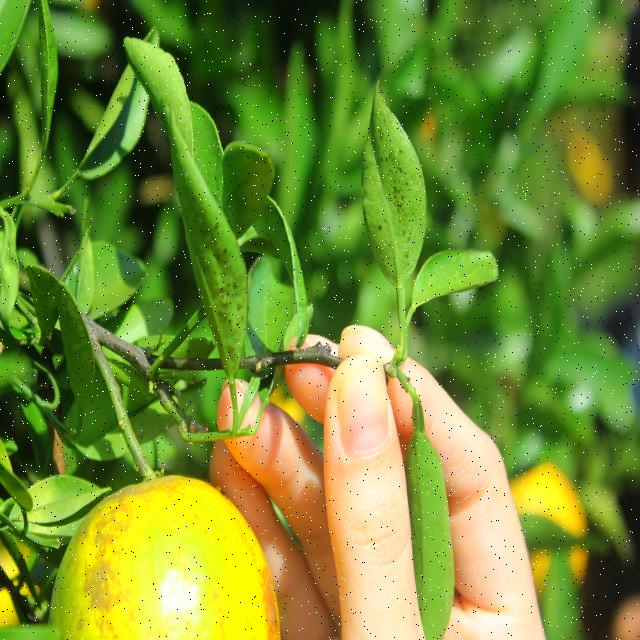melanose: (181, 154, 271, 393), (357, 90, 428, 286)
